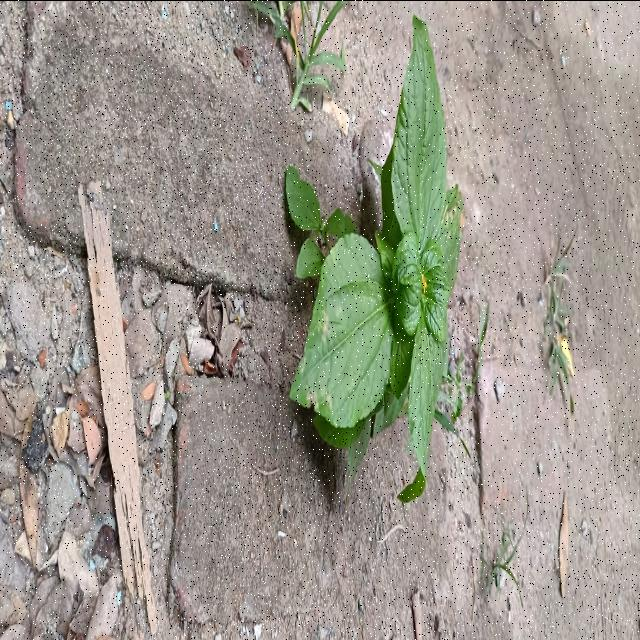plant: (288, 15, 462, 500)
